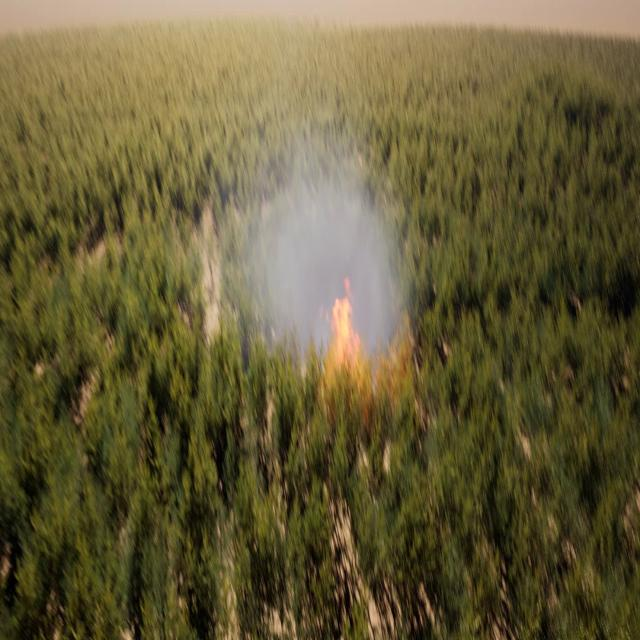fire: (326, 272, 375, 388)
smoke: (231, 108, 412, 394)
